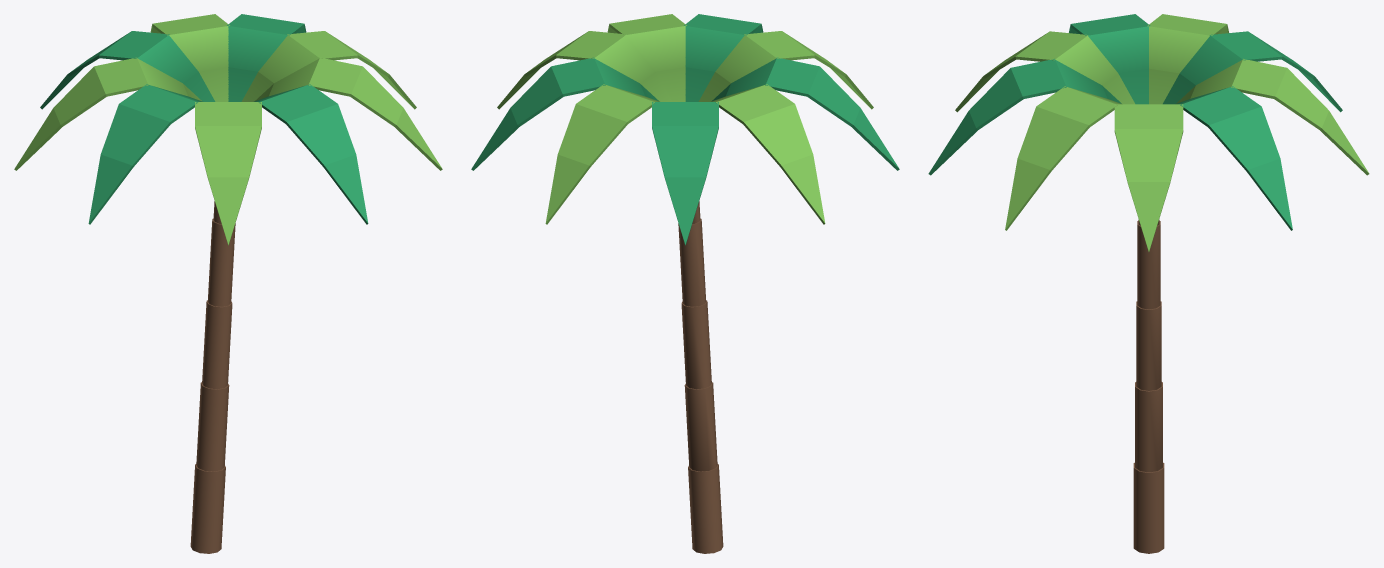
Rendered from tree-palm-low.glb.
3 renders of one model, left to right at view 1: azimuth 30°, elevation 25°; view 2: azimuth 150°, elevation 25°; view 3: azimuth 270°, elevation 25°, orthographic. The views are drawn at different scales.
Visible parts, largest first — view 1: arched palm frond, arched palm frond.001, palm stem; view 2: arched palm frond, arched palm frond.001, palm stem; view 3: arched palm frond, arched palm frond.001, palm stem.
Part boxes in pixels (x1=…): arched palm frond: x1=14, y1=14, x2=442, y2=245; arched palm frond.001: x1=40, y1=14, x2=368, y2=224; palm stem: x1=190, y1=201, x2=235, y2=553; arched palm frond: x1=497, y1=14, x2=873, y2=224; arched palm frond.001: x1=471, y1=14, x2=899, y2=245; palm stem: x1=678, y1=201, x2=723, y2=553; arched palm frond: x1=955, y1=14, x2=1369, y2=251; arched palm frond.001: x1=928, y1=14, x2=1342, y2=230; palm stem: x1=1133, y1=220, x2=1164, y2=553.
Size of the model in its own units: 2.04 by 2.54 by 2.07.
